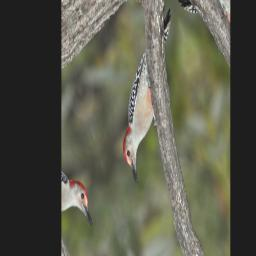Woodpecker: (99, 8, 205, 190)
